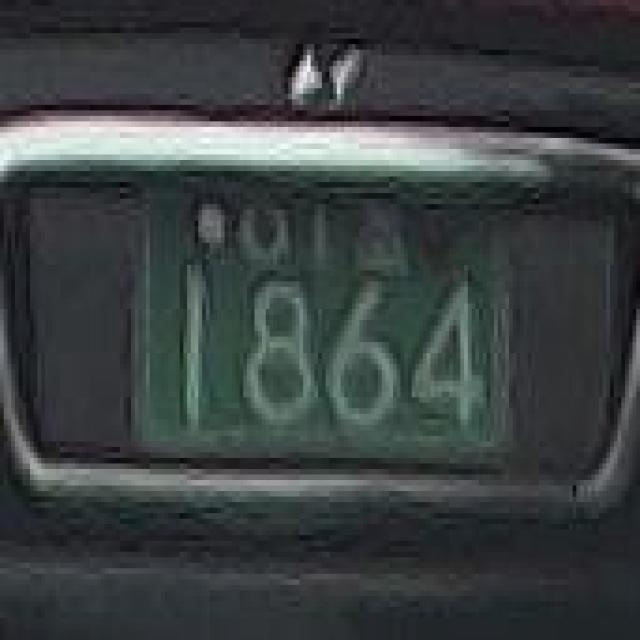illegal_plate: (110, 151, 531, 501)
